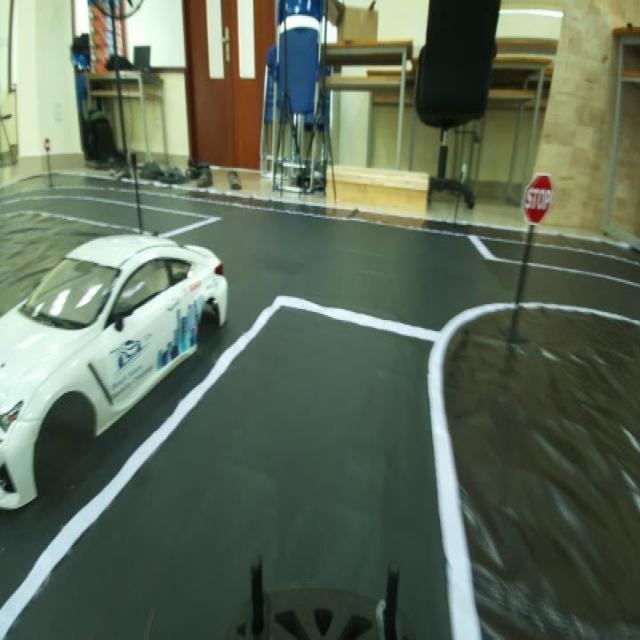car: (0, 258, 225, 482)
stop: (519, 166, 554, 230)
